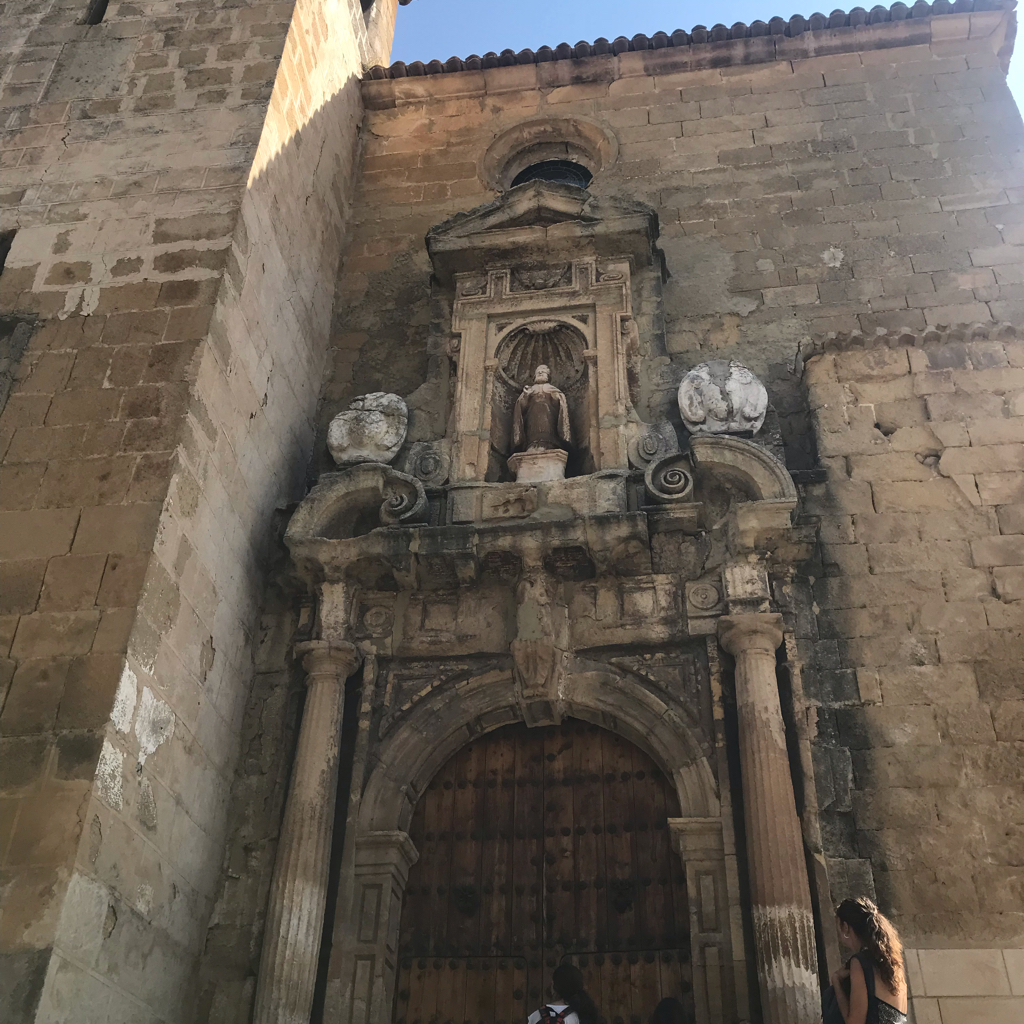arco-medio-punto: (391, 692, 701, 880)
fronton: (434, 184, 665, 254)
fronton-partido: (294, 446, 797, 562)
